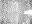person: (24, 10, 32, 14)
